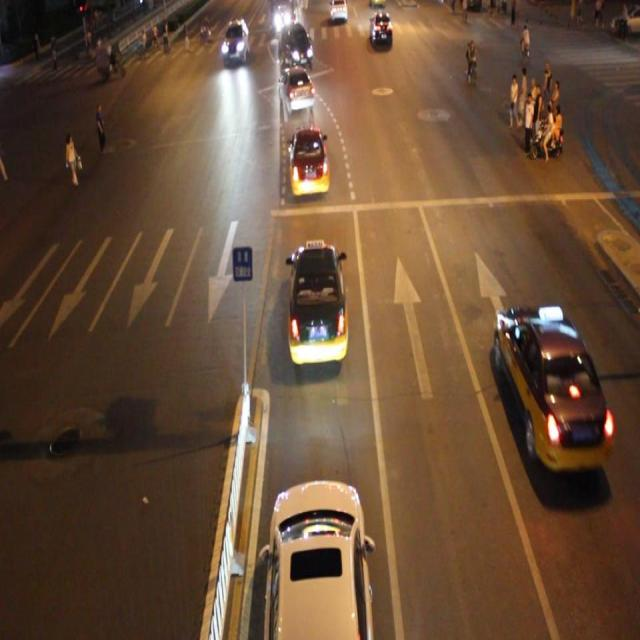car: (493, 304, 608, 471), (265, 480, 374, 640), (288, 242, 346, 361), (289, 125, 329, 197), (278, 67, 314, 113), (280, 23, 313, 68), (221, 18, 249, 64), (368, 11, 392, 48)
